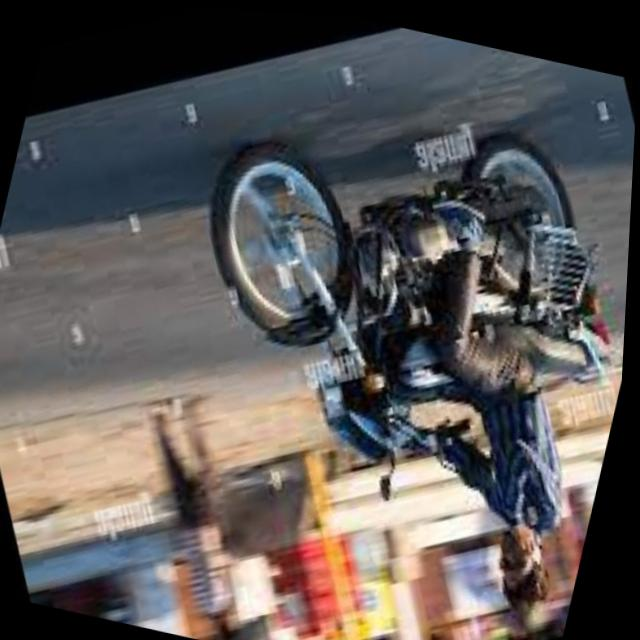USING_MOBILE: (471, 420, 593, 572)
